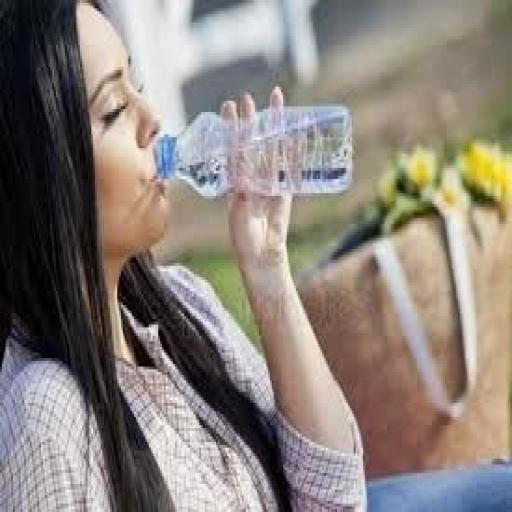drinking: (151, 100, 354, 198)
